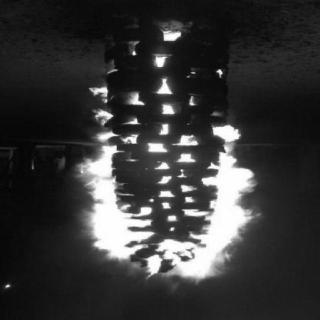Fire: (72, 29, 264, 281)
